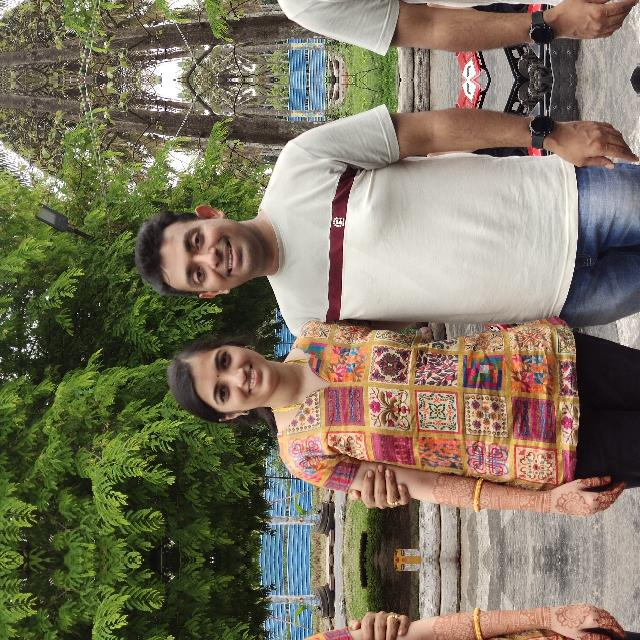person: (244, 205, 396, 571), (76, 237, 232, 515), (244, 549, 396, 640), (76, 605, 232, 640)
